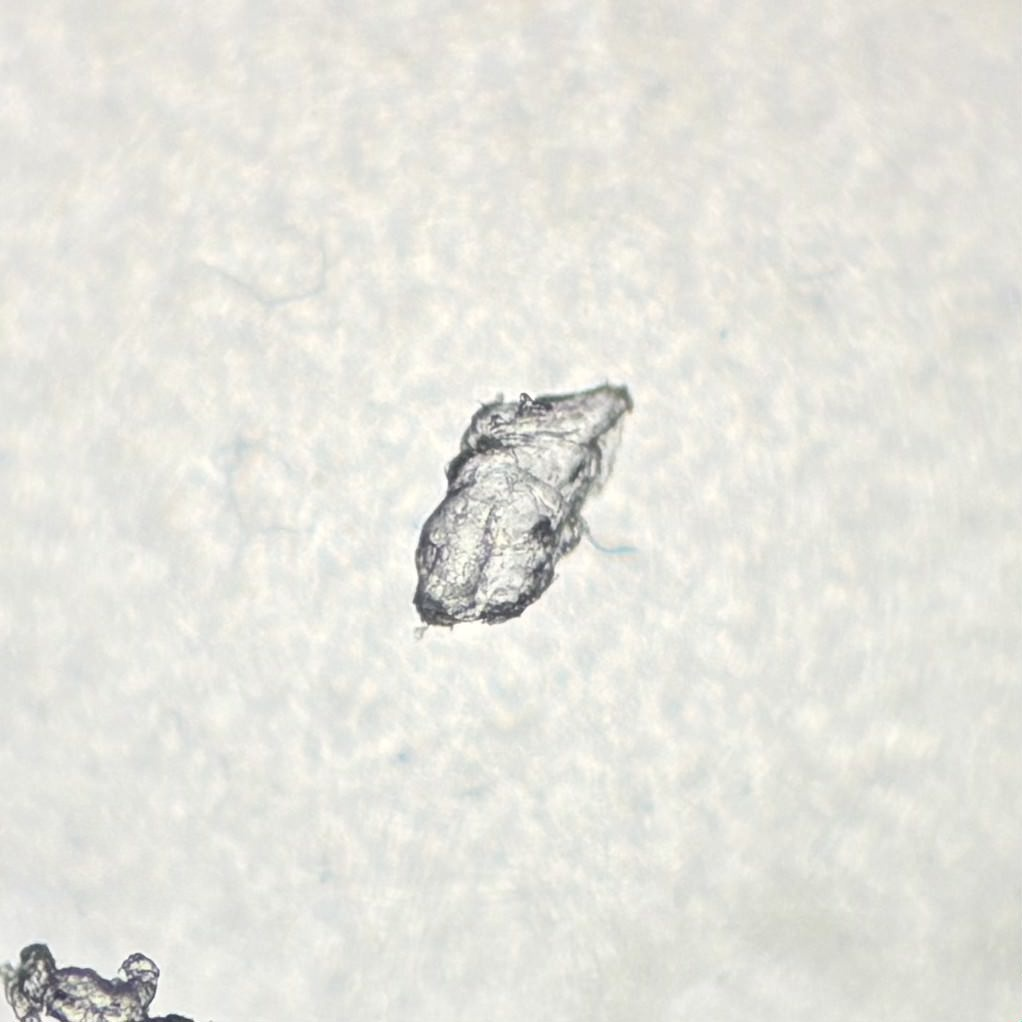microplastic: (412, 381, 639, 628), (1, 931, 202, 1022)
